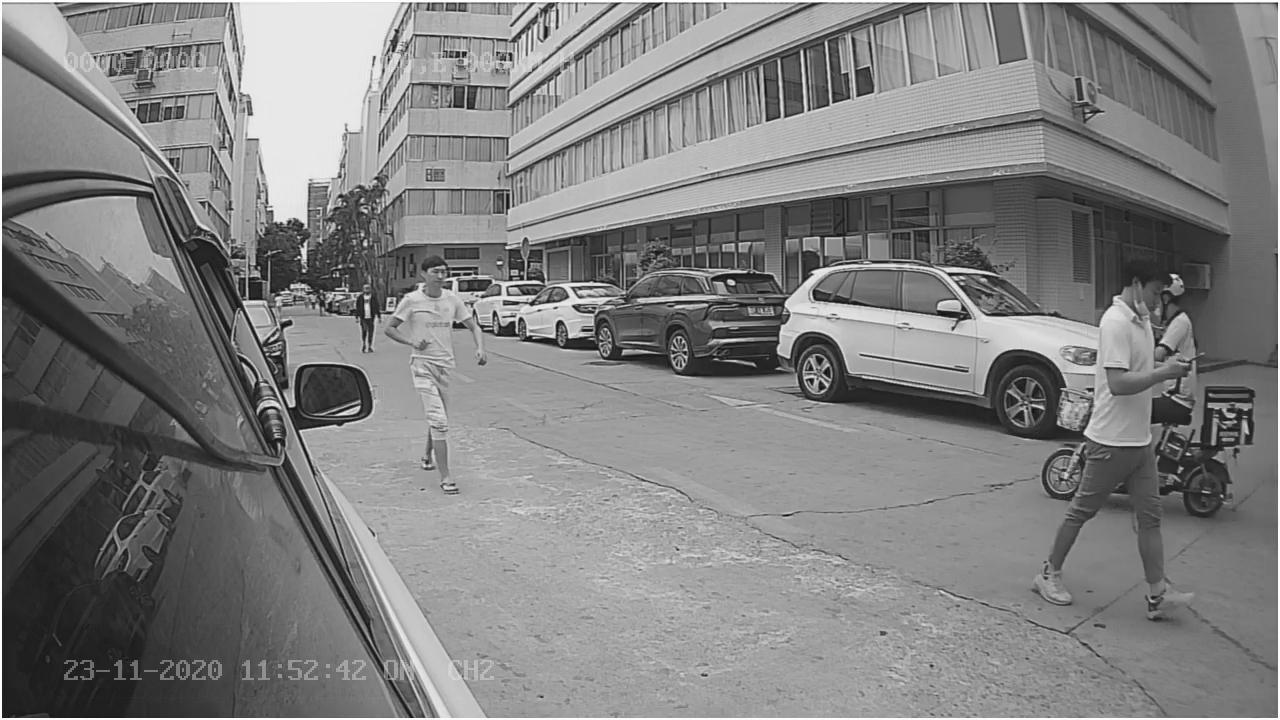person: (1045, 260, 1181, 612), (390, 256, 482, 486)
